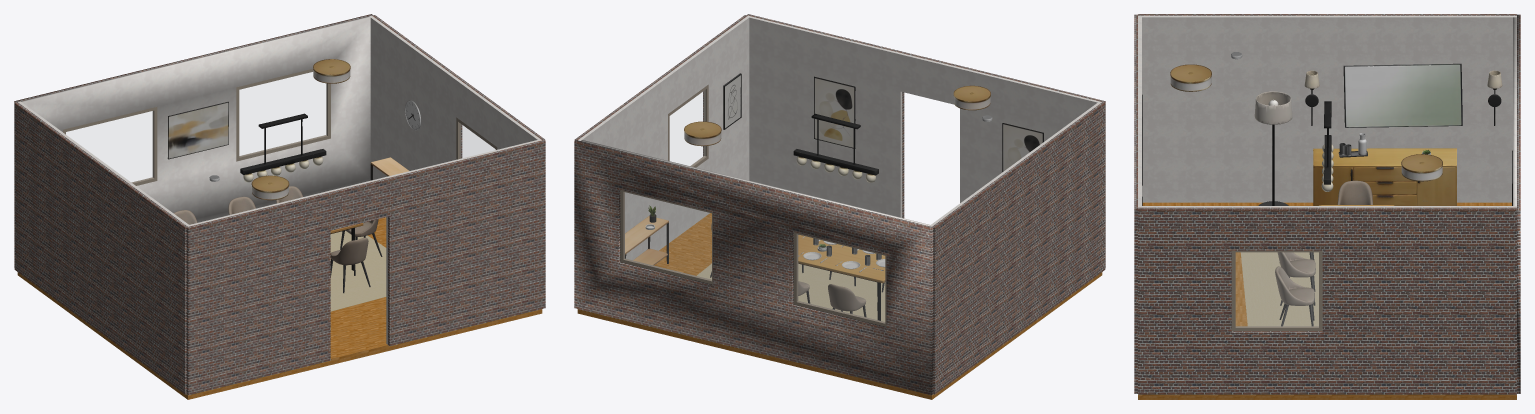
Rendered from scene_web.glb.
The picture shows the model from 3 angles, left to right: view 1: azimuth 30°, elevation 25°; view 2: azimuth 150°, elevation 25°; view 3: azimuth 270°, elevation 25°; orthographic projection. The views are drawn at different scales.
Parts seen in each view (by area): view 1: geometry_0.003, geometry_0.007, geometry_0, geometry_0.004, Mesh_0, glass.001, glass, Mesh_0.001, geometry_0.027, geometry_0.028, frame.001, geometry_0.002 (+9 smaller); view 2: geometry_0.001, geometry_0.002, geometry_0.007, geometry_0.004, glass.001, glass, Mesh_0, Mesh_0.001, geometry_0.023, geometry_0.008, glass.002, geometry_0.028 (+13 smaller); view 3: geometry_0.005, geometry_0.006, geometry_0.020, glass.002, geometry_0.009, Mesh_0.001, Mesh_0, geometry_0.001, geometry_0.003, geometry_0.010, frame.002, geometry_0.016 (+11 smaller).
Part boxes in pixels (x1,y1,x2,y2): geometry_0.003: (186, 140, 545, 395); geometry_0.007: (14, 102, 187, 394); geometry_0: (21, 16, 370, 222); geometry_0.004: (369, 15, 541, 179); Mesh_0: (17, 217, 542, 399); glass.001: (239, 72, 326, 156); glass: (66, 111, 152, 182); Mesh_0.001: (330, 230, 386, 311); geometry_0.027: (167, 101, 228, 159); geometry_0.028: (240, 113, 326, 182); frame.001: (236, 69, 330, 161); geometry_0.002: (190, 140, 538, 344); geometry_0.001: (574, 140, 933, 395); geometry_0.002: (749, 16, 1098, 217); geometry_0.007: (932, 102, 1105, 394); geometry_0.004: (578, 15, 750, 260); glass.001: (624, 192, 711, 279); glass: (798, 235, 884, 322); Mesh_0: (577, 213, 1102, 399); Mesh_0.001: (697, 263, 885, 321); geometry_0.023: (814, 76, 855, 148); geometry_0.008: (798, 235, 885, 320); glass.002: (670, 90, 705, 165); geometry_0.028: (793, 113, 878, 182); geometry_0.005: (1138, 207, 1516, 394); geometry_0.006: (1138, 15, 1516, 202); geometry_0.020: (1343, 63, 1462, 127); glass.002: (1236, 252, 1318, 326); geometry_0.009: (1313, 148, 1456, 205); Mesh_0.001: (1240, 252, 1318, 326); Mesh_0: (1138, 202, 1516, 399); geometry_0.001: (1517, 14, 1520, 393); geometry_0.003: (1134, 14, 1137, 393); geometry_0.010: (1254, 91, 1292, 205); frame.002: (1231, 250, 1322, 331); geometry_0.016: (1275, 266, 1314, 326).
Bounding box in the file's own units: 6.1 × 2.8 × 5.1.
Materials: 29 (27 with a texture image).
